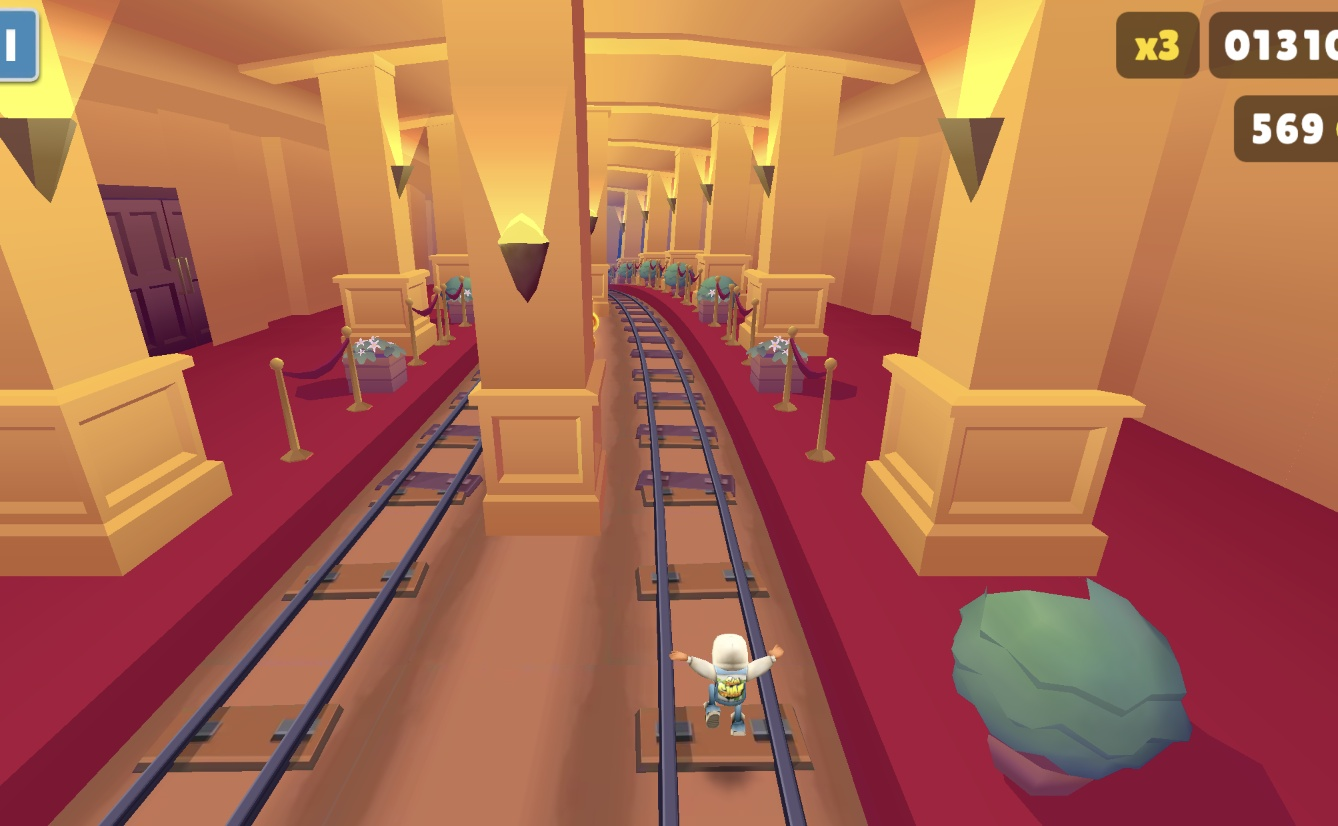pillar: (442, 0, 607, 537)
